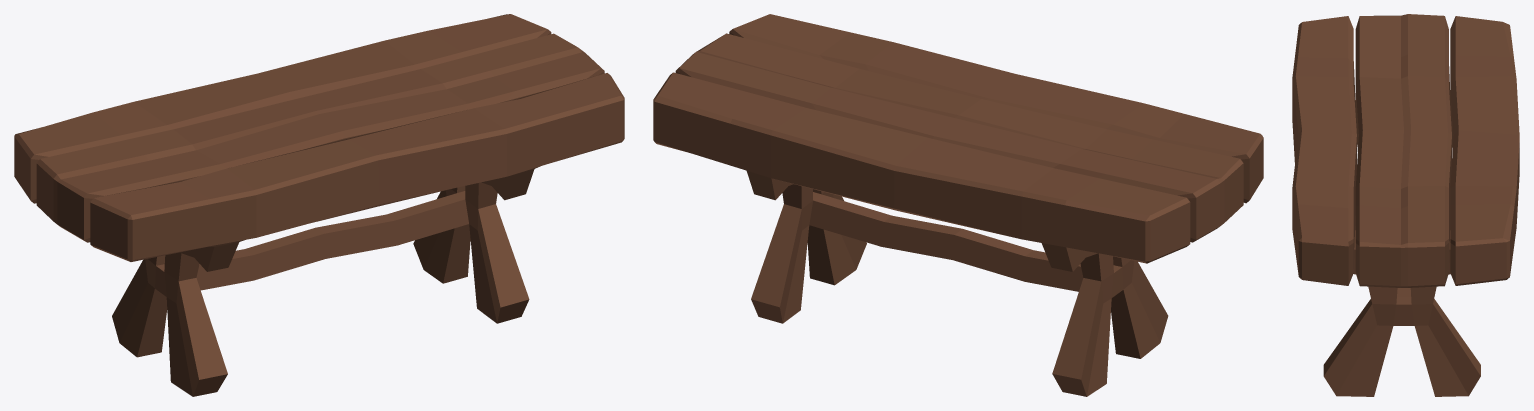
File: WoodenTable.fbx
3 renders of one model, left to right at view 1: azimuth 30°, elevation 25°; view 2: azimuth 150°, elevation 25°; view 3: azimuth 270°, elevation 25°, orthographic. The views are drawn at different scales.
Visible parts, largest first — view 1: WoodenTable; view 2: WoodenTable; view 3: WoodenTable.
Part boxes in pixels (<box>): WoodenTable: <box>14,14,624,396</box>; WoodenTable: <box>653,14,1263,396</box>; WoodenTable: <box>1292,14,1519,396</box>.
Bounding box in the file's own units: 295 × 116 × 122.
1 material, 1 textured.
